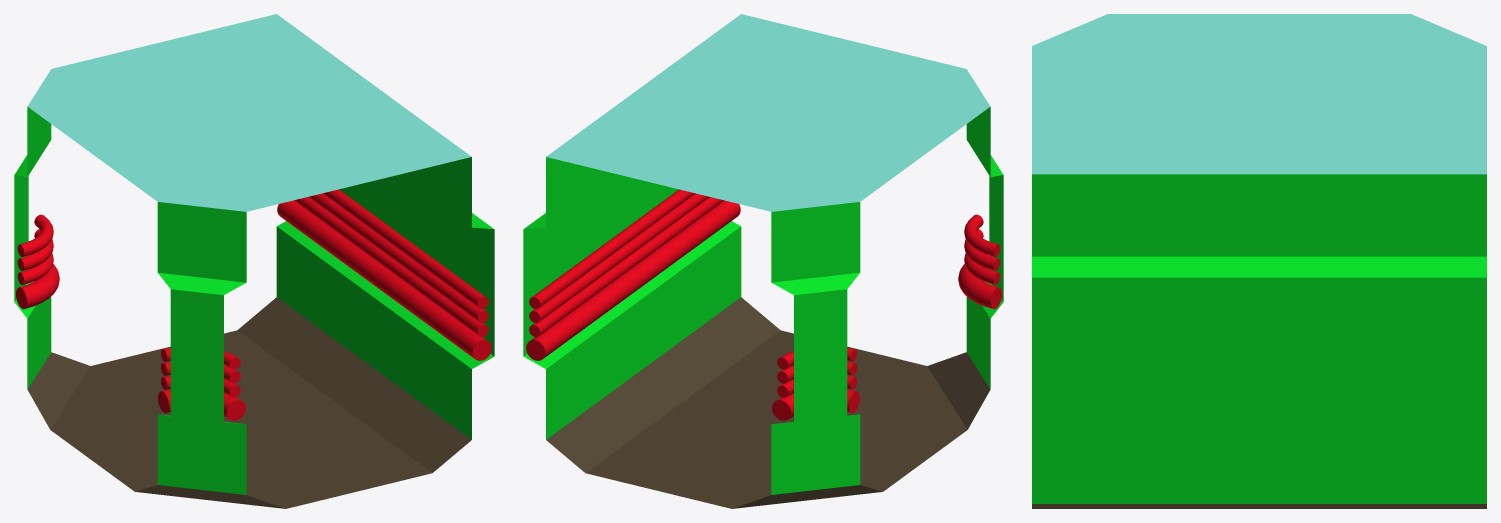
Rendered from T_Junction.fbx.
3 renders of one model, left to right at view 1: azimuth 30°, elevation 25°; view 2: azimuth 150°, elevation 25°; view 3: azimuth 270°, elevation 25°, orthographic. The views are drawn at different scales.
Parts seen in each view (by area): view 1: T_Junction, Cylinder.001; view 2: T_Junction, Cylinder.001; view 3: T_Junction.
Part boxes in pixels (x1=…): T_Junction: x1=14, y1=14, x2=494, y2=508; Cylinder.001: x1=16, y1=189, x2=491, y2=420; T_Junction: x1=523, y1=14, x2=1003, y2=508; Cylinder.001: x1=526, y1=189, x2=1001, y2=420; T_Junction: x1=1032, y1=14, x2=1486, y2=508.
Size of the model in its own units: 2.7 by 2.6 by 3.
